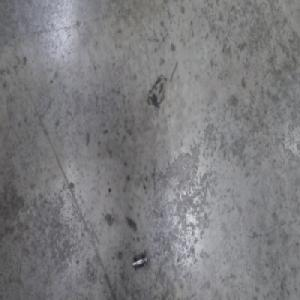Bolt: (132, 251, 149, 272)
